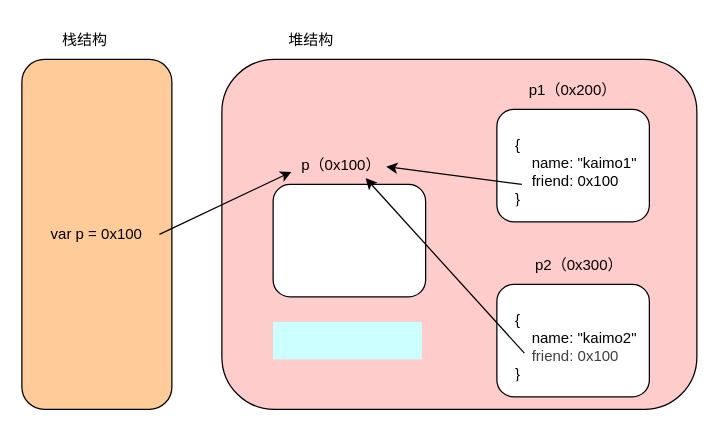
Some shapes in this 719 by 431 pixel diagram are drawn without their labels. The shapes that lost their labels are listed below. From the top down, each one's centre as x and y in pixels, then its label:
(349,240): { name: "kaimo" }
(346,340): retain count: +3
